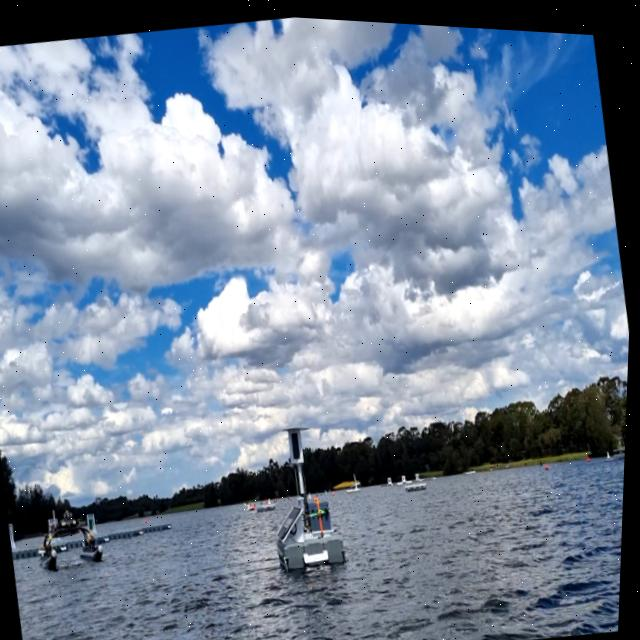led: (292, 425, 307, 457)
